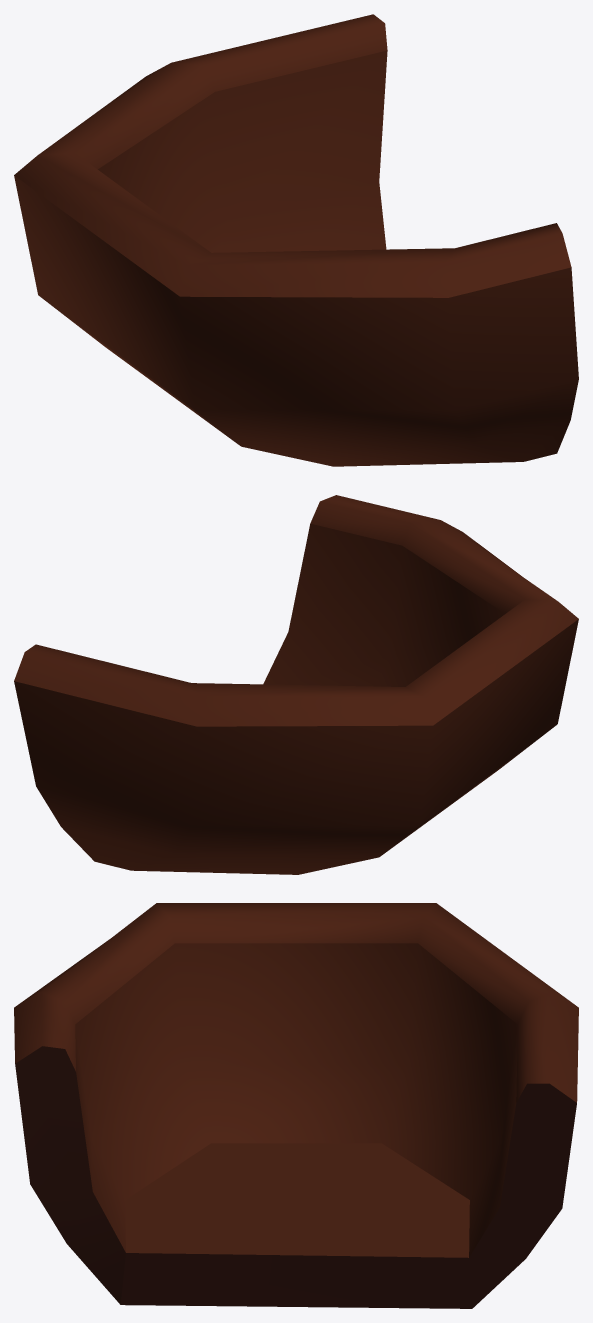
The model's file is BateauPart_Part_4.fbx.
The picture shows the model from 3 angles, top to bottom: view 1: azimuth 30°, elevation 25°; view 2: azimuth 150°, elevation 25°; view 3: azimuth 270°, elevation 25°; orthographic projection. The views are drawn at different scales.
Parts seen in each view (by area): view 1: BateauPart_Part_4; view 2: BateauPart_Part_4; view 3: BateauPart_Part_4.
Boxes of the visible parts, left/top/right/bottom form: BateauPart_Part_4: left=14, top=14, right=578, bottom=466; BateauPart_Part_4: left=14, top=495, right=578, bottom=874; BateauPart_Part_4: left=14, top=903, right=578, bottom=1308.
Bounding box in the file's own units: 34.64 × 20.86 × 44.06.
